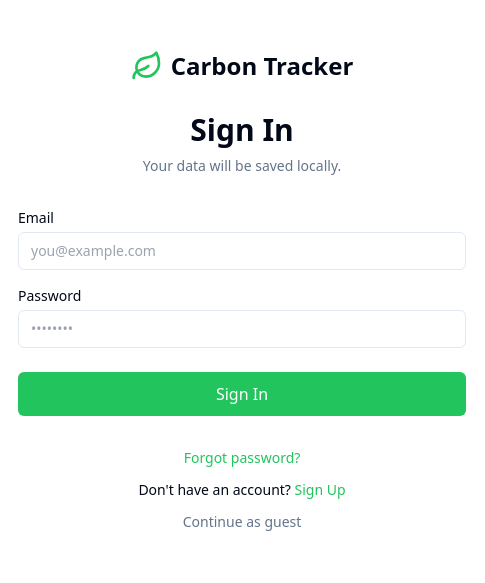
SignInPage › shows error message on failed sign-in
In the field with test id "email-input": point(242, 251) [18,232,466,270], type "test@example.com"
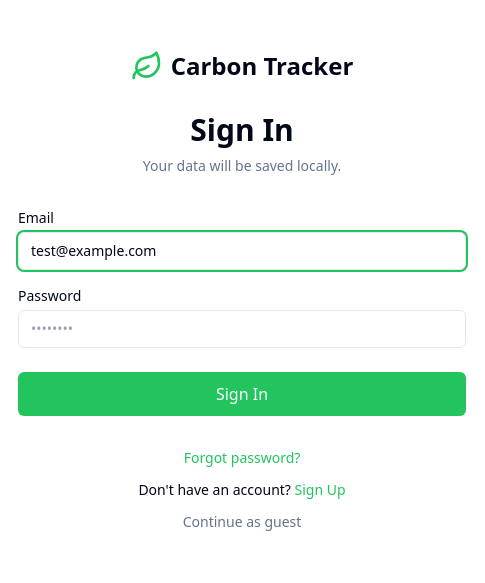
In the password field with test id "password-input": point(242, 329) [18,310,466,348], type "wrongpassword"
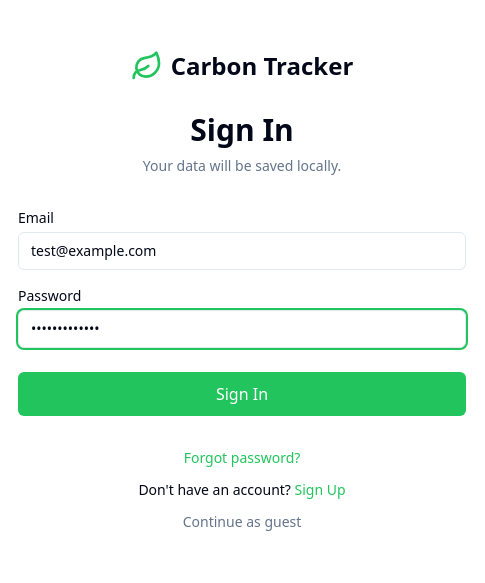
Click the button with test id "signin-button": point(242, 394) [18,372,466,416]
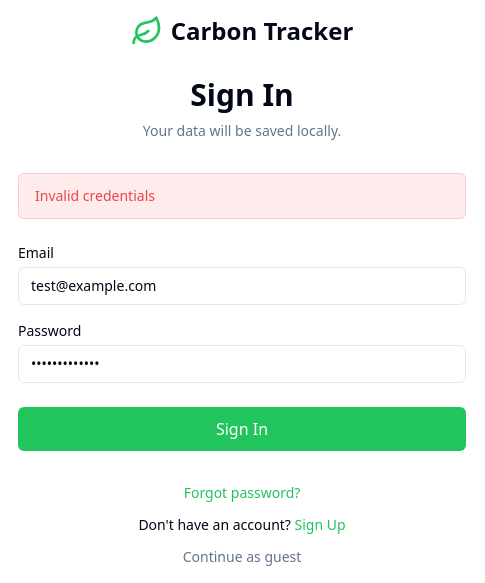
Now the message reads "Invalid credentials", box [35,186,155,205]
